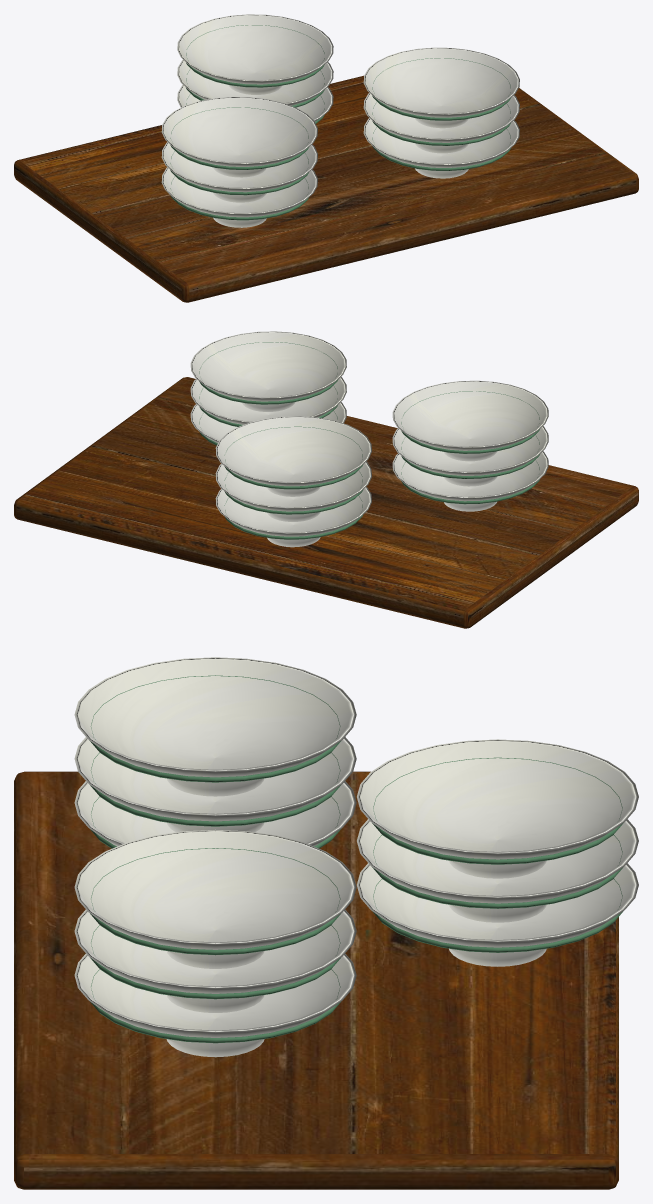
The model's file is PROP_Common_BowlStack_A.glb.
3 views of the same model, one above another, from view 1: azimuth 30°, elevation 25°; view 2: azimuth 150°, elevation 25°; view 3: azimuth 270°, elevation 25° (orthographic). The views are drawn at different scales.
Parts seen in each view (by area): view 1: PROP_Common_BowlStack_A; view 2: PROP_Common_BowlStack_A; view 3: PROP_Common_BowlStack_A.
Boxes of the visible parts, x1,y1,x2,y2 form: PROP_Common_BowlStack_A: (14, 14, 638, 302); PROP_Common_BowlStack_A: (14, 331, 638, 628); PROP_Common_BowlStack_A: (14, 657, 638, 1189).
Size of the model in its own units: 0.95 by 0.21 by 0.643.
Materials: 3 (3 with a texture image).
